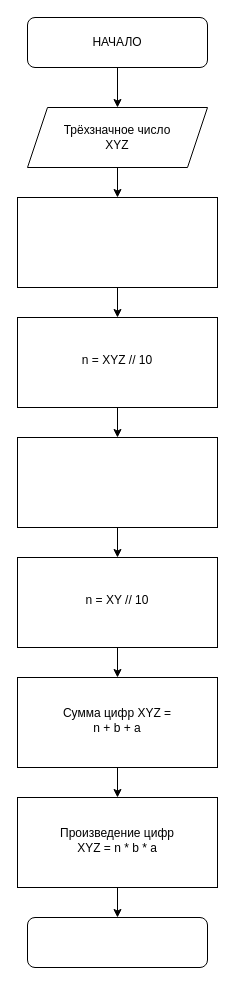
The diagram is 235 pixels wide and 985 high, and some of its shapes have lost their labels. Each missing label, with the centre of its shape:
"a = XYZ % 10" goes at point 117,242.
"b = XY % 10" goes at point 117,482.
"КОНЕЦ" goes at point 117,942.
